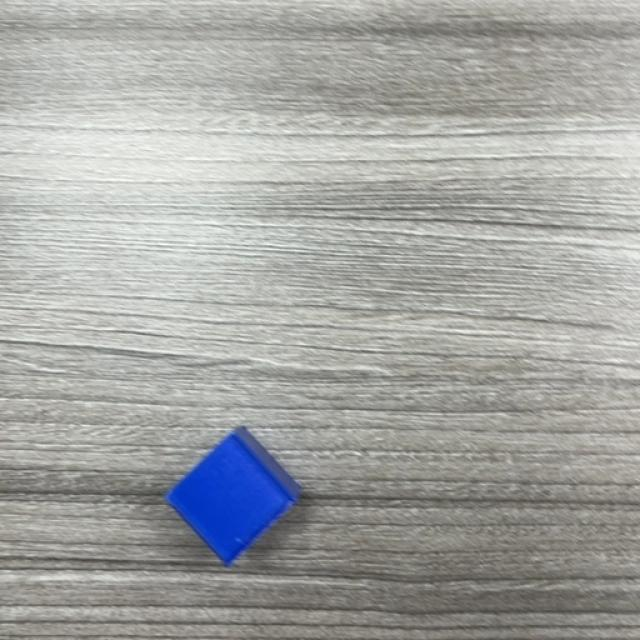Azul: (164, 428, 302, 568)
